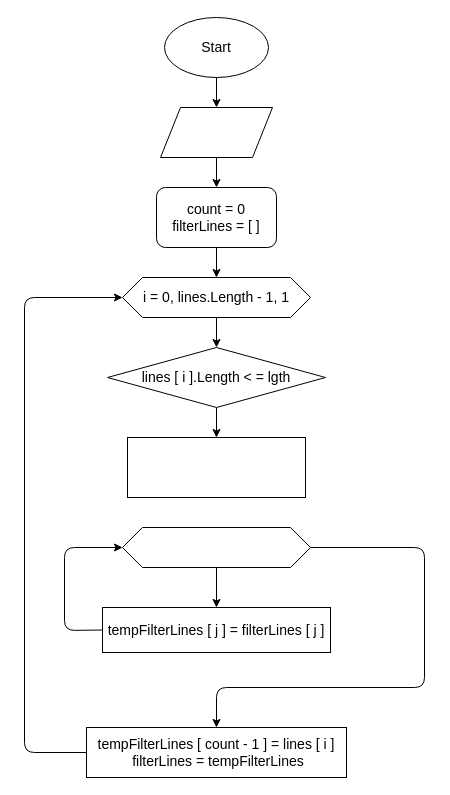
Some shapes in this 450 by 795 pixel diagram are drawn without their labels. The centre of each missing label's shape, as x and y in pixels:
"count = count + 1 tempFilterLines = [ count ]" goes at [216,467].
"j = 0, count - 2, 1" goes at [216,547].
"lines [ ] lgth" goes at [216,132].
